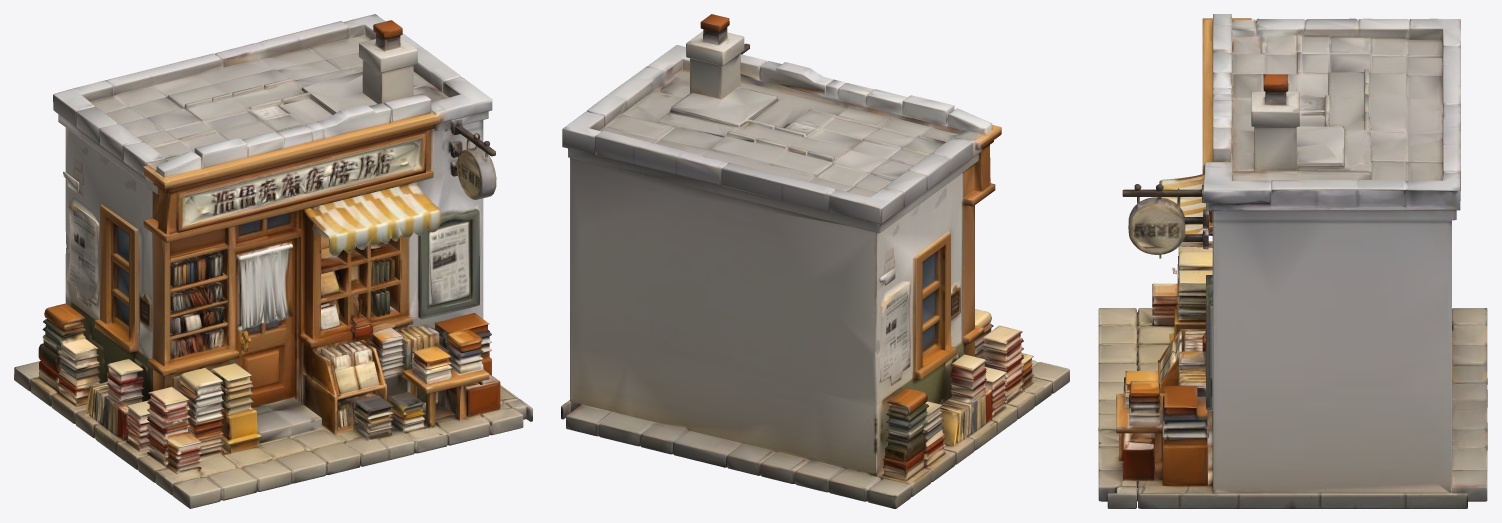
Rendered from shudian.glb.
The picture shows the model from 3 angles, left to right: view 1: azimuth 30°, elevation 25°; view 2: azimuth 150°, elevation 25°; view 3: azimuth 270°, elevation 25°; orthographic projection. The views are drawn at different scales.
Visible parts, largest first — view 1: node_0; view 2: node_0; view 3: node_0.
Boxes of the visible parts, x1,y1,x2,y2 form: node_0: (14,14,532,508); node_0: (561,14,1069,508); node_0: (1098,14,1487,508).
Bounding box in the file's own units: 0.7314 × 0.7121 × 0.6383.
1 material, 1 textured.
